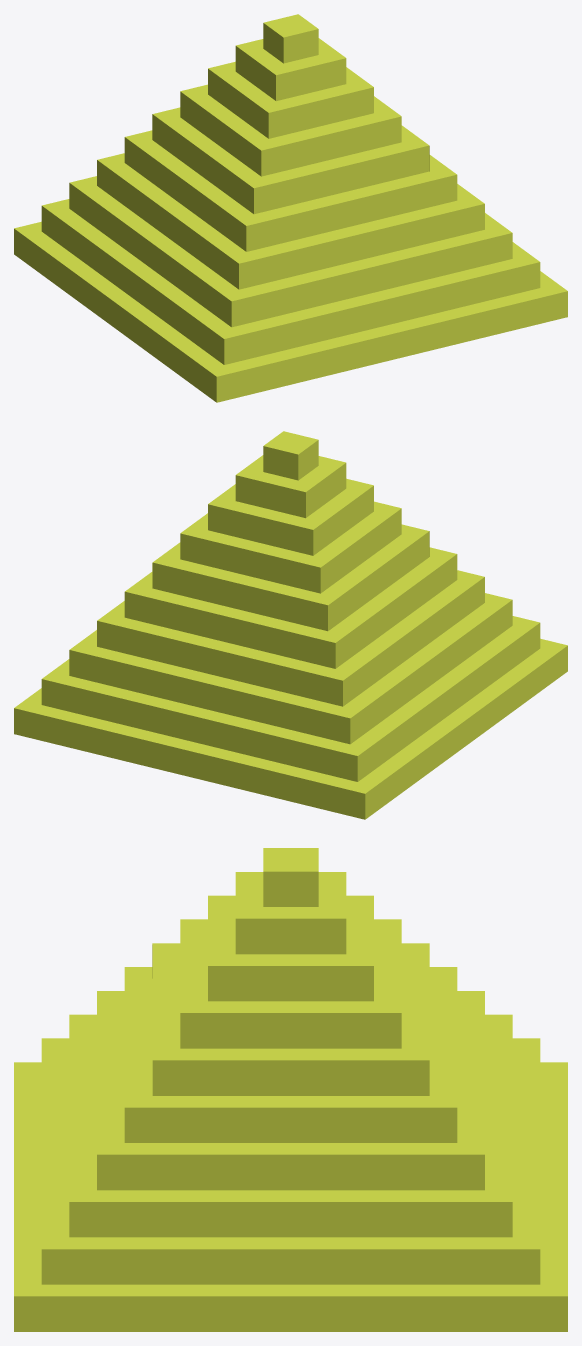
3 renders of one model, top to bottom at view 1: azimuth 30°, elevation 25°; view 2: azimuth 150°, elevation 25°; view 3: azimuth 270°, elevation 25°, orthographic. The views are drawn at different scales.
Parts seen in each view (by area): view 1: Pyramid; view 2: Pyramid; view 3: Pyramid.
Part boxes in pixels (<box>): Pyramid: <box>14,14,567,402</box>; Pyramid: <box>14,431,567,819</box>; Pyramid: <box>14,848,567,1331</box>.
Bounding box in the file's own units: 1.41 × 1 × 1.41.
